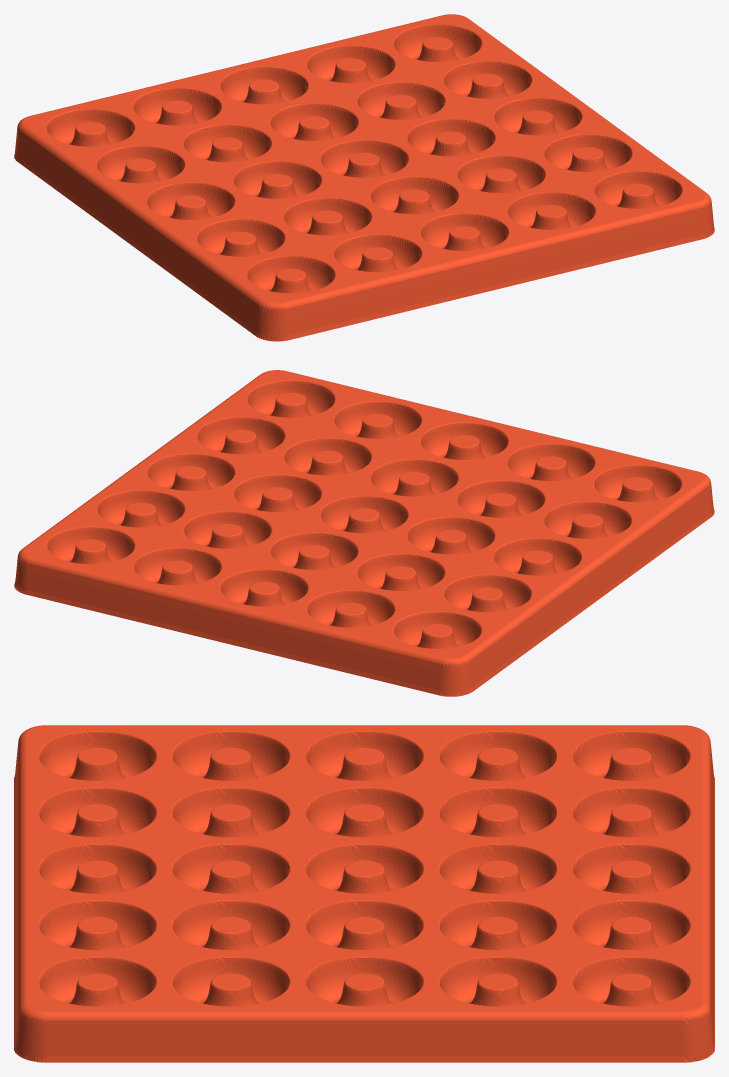
Rendered from mold.glb.
3 views of the same model, one above another, from view 1: azimuth 30°, elevation 25°; view 2: azimuth 150°, elevation 25°; view 3: azimuth 270°, elevation 25° (orthographic). The views are drawn at different scales.
Visible parts, largest first — view 1: geometry_0; view 2: geometry_0; view 3: geometry_0.
Part boxes in pixels (left/top/right/bottom): geometry_0: left=14, top=14, right=714, bottom=341; geometry_0: left=14, top=370, right=714, bottom=696; geometry_0: left=14, top=725, right=714, bottom=1062.
Bounding box in the file's own units: 0.193 × 0.014 × 0.193.
